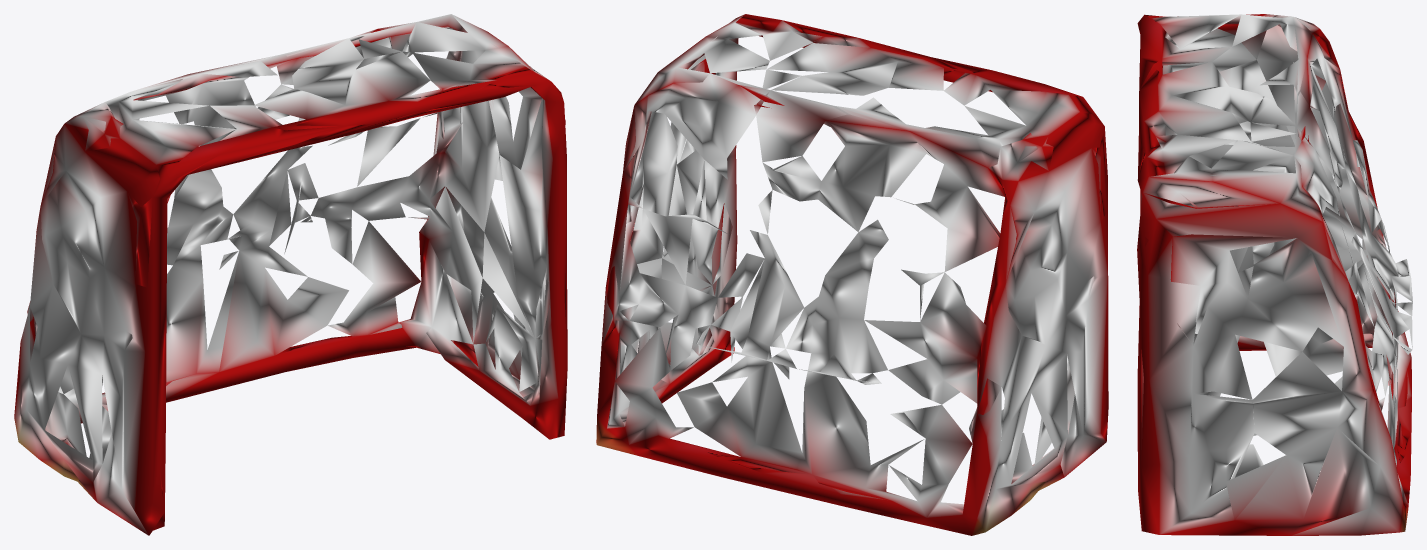
File: gen3d-hockey-goal-lod1.glb
The picture shows the model from 3 angles, left to right: view 1: azimuth 30°, elevation 25°; view 2: azimuth 150°, elevation 25°; view 3: azimuth 270°, elevation 25°; orthographic projection. The views are drawn at different scales.
Parts seen in each view (by area): view 1: part_0; view 2: part_0; view 3: part_0.
Boxes of the visible parts, x1,y1,x2,y2 form: part_0: (14,14,567,535); part_0: (596,14,1108,535); part_0: (1137,14,1412,535).
Size of the model in its own units: 1.19 by 0.9958 by 0.7157.
